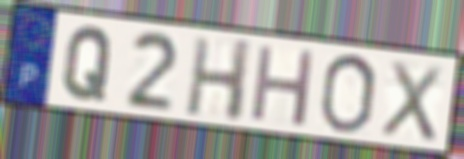2: (123, 30, 182, 115)
H: (183, 35, 256, 125), (247, 41, 319, 129)
O: (316, 52, 380, 136)
Q: (59, 23, 116, 104)
X: (377, 57, 445, 146)
